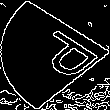P_SE: (11, 24, 99, 86)
